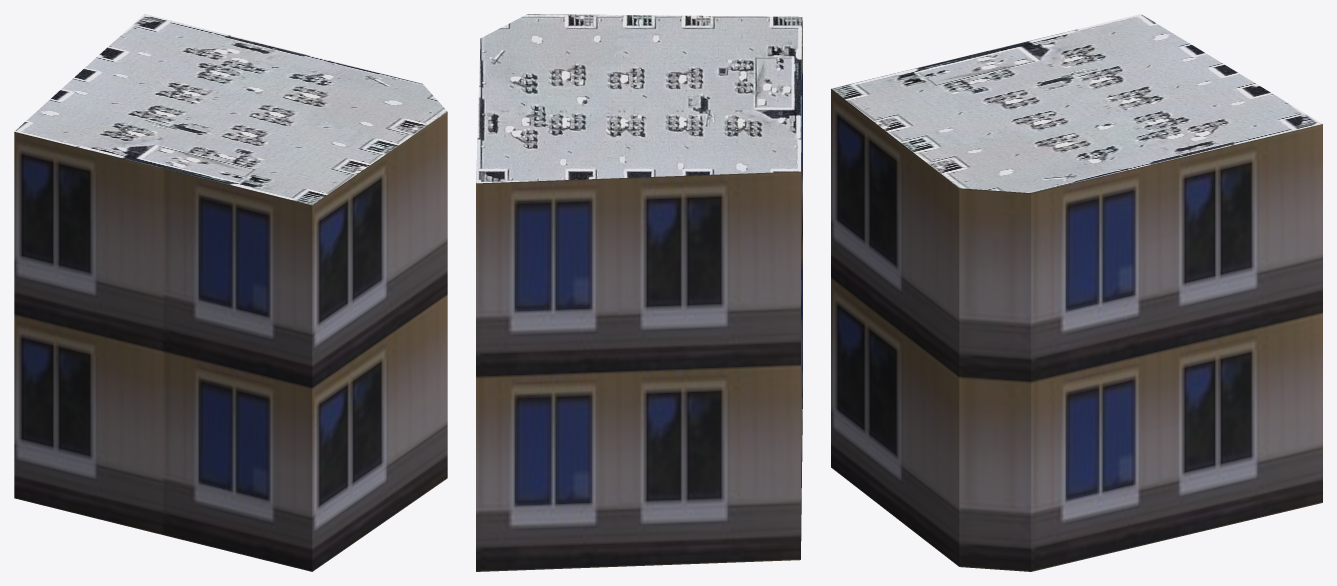
File: ResTex__1492.fbx
3 views of the same model, side by side, from view 1: azimuth 30°, elevation 25°; view 2: azimuth 150°, elevation 25°; view 3: azimuth 270°, elevation 25° (orthographic). The views are drawn at different scales.
Parts seen in each view (by area): view 1: CityEngineMaterial_5_m, CityEngineMaterial_4_m; view 2: CityEngineMaterial_5_m, CityEngineMaterial_4_m; view 3: CityEngineMaterial_5_m, CityEngineMaterial_4_m.
Boxes of the visible parts, x1,y1,x2,y2 form: CityEngineMaterial_5_m: (14, 112, 447, 571); CityEngineMaterial_4_m: (14, 14, 447, 205); CityEngineMaterial_5_m: (476, 20, 802, 571); CityEngineMaterial_4_m: (476, 14, 802, 183); CityEngineMaterial_5_m: (831, 89, 1322, 571); CityEngineMaterial_4_m: (831, 14, 1322, 192).
Bounding box in the file's own units: 6.09 × 6 × 7.06.
2 materials, 2 textured.
